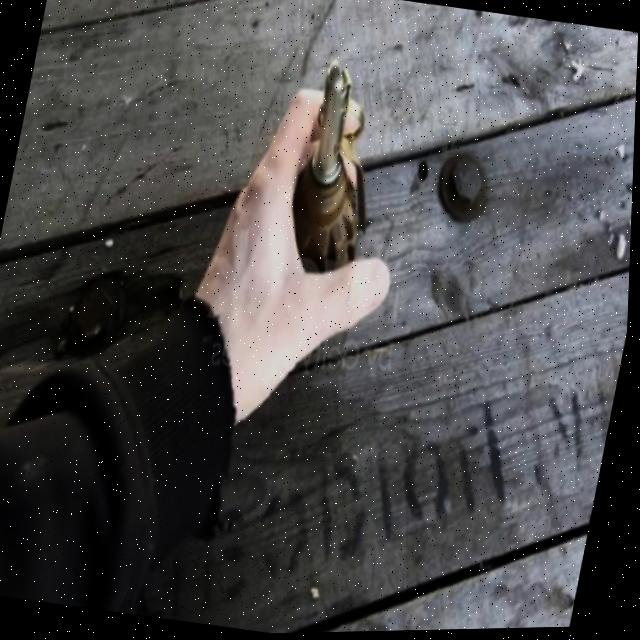grenade: (267, 40, 403, 282)
